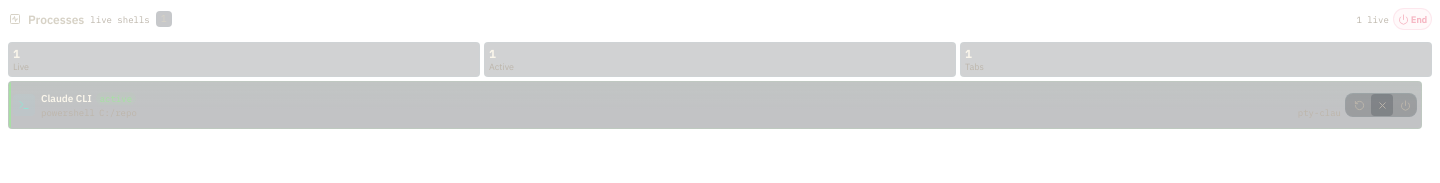
it: ProcessManagerPanel › disables the active header end action after the active process was ended
The image size is (1440, 183).
Click the button with aria-label "End active process Claude CLI".
click(1412, 19)  # box [1393,8,1432,30]
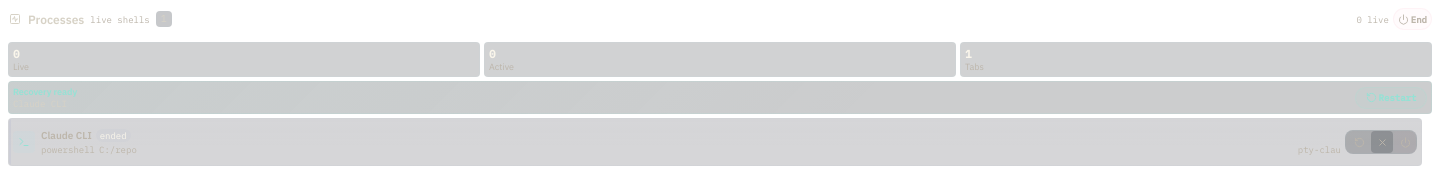
Expected: the text "ended" is shown, [96,129,131,142]
Expected: the button with aria-label "End active process Claude CLI" is disabled, [1393,8,1432,30]
